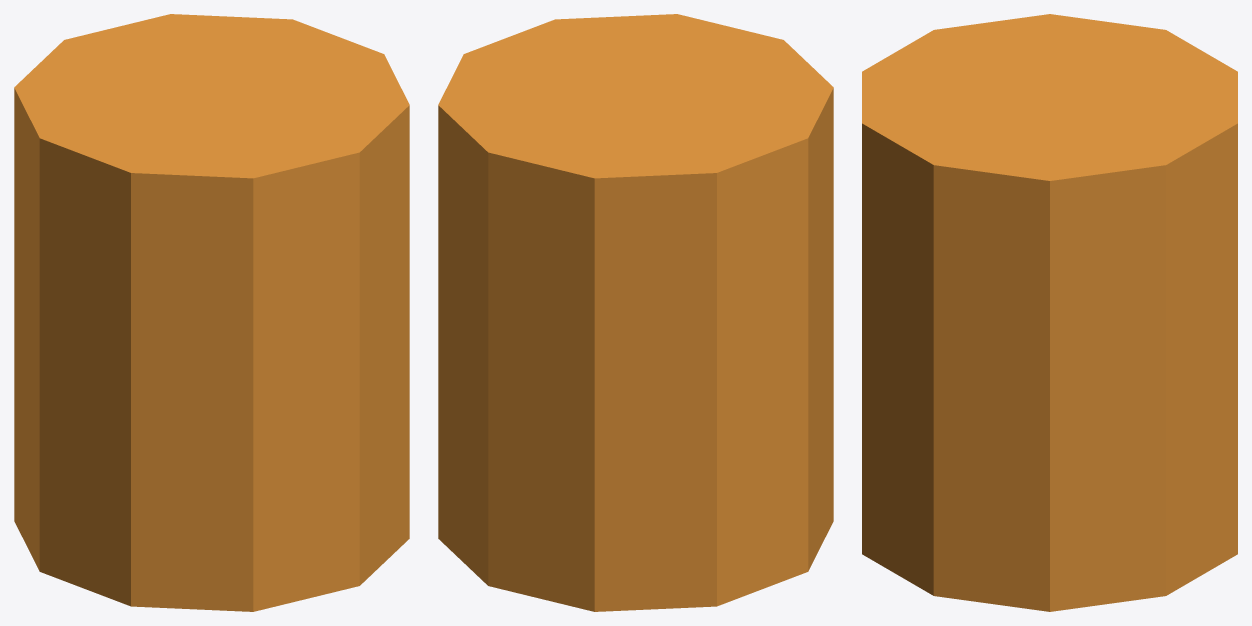
Rendered from CR_sci_Chair_001_Collider.FBX.
3 renders of one model, left to right at view 1: azimuth 30°, elevation 25°; view 2: azimuth 150°, elevation 25°; view 3: azimuth 270°, elevation 25°, orthographic.
Parts seen in each view (by area): view 1: CR_sci_Chair_001_Collider; view 2: CR_sci_Chair_001_Collider; view 3: CR_sci_Chair_001_Collider.
Part boxes in pixels (x1=…): CR_sci_Chair_001_Collider: x1=14, y1=14, x2=409, y2=611; CR_sci_Chair_001_Collider: x1=438, y1=14, x2=833, y2=611; CR_sci_Chair_001_Collider: x1=862, y1=14, x2=1237, y2=611.
Bounding box in the file's own units: 28.84 × 34.68 × 27.43.
